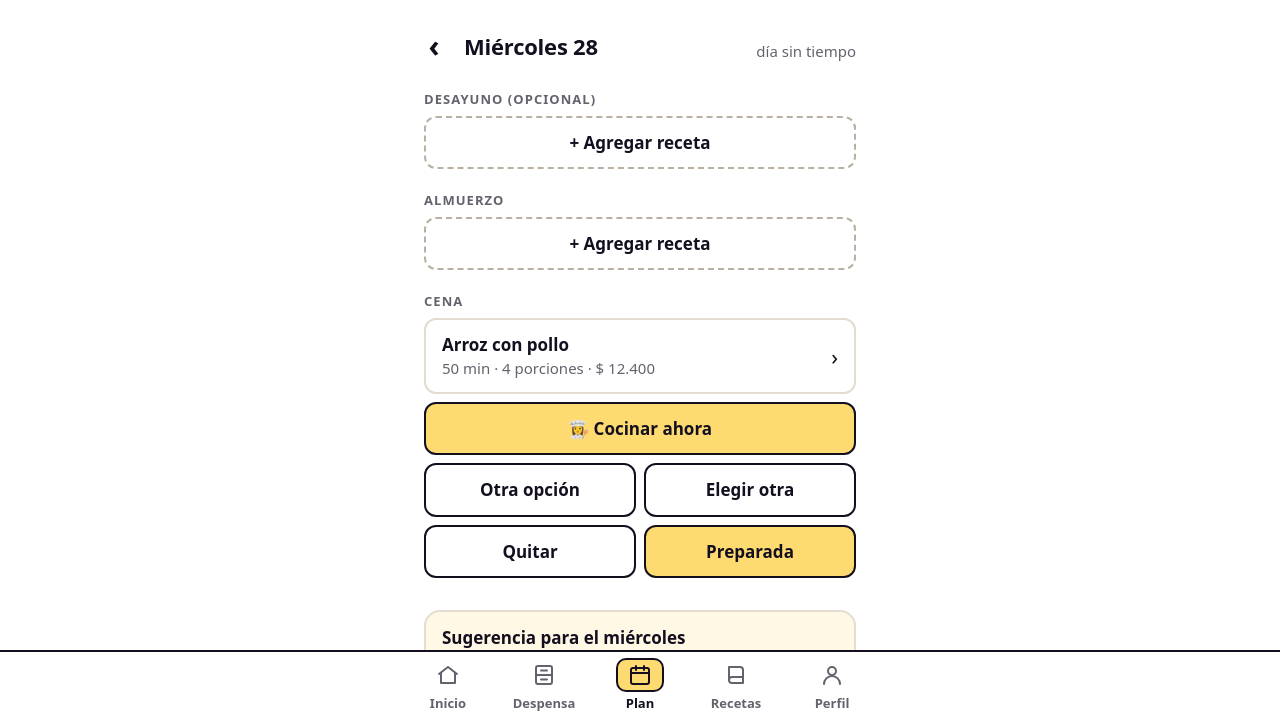
Test: Plan semanal (pantallas 27 a 33) › quitar una comida se puede deshacer
This screenshot has width=1280, height=720.
Click the button "Quitar" at (530, 552), box [424,525,636,578]
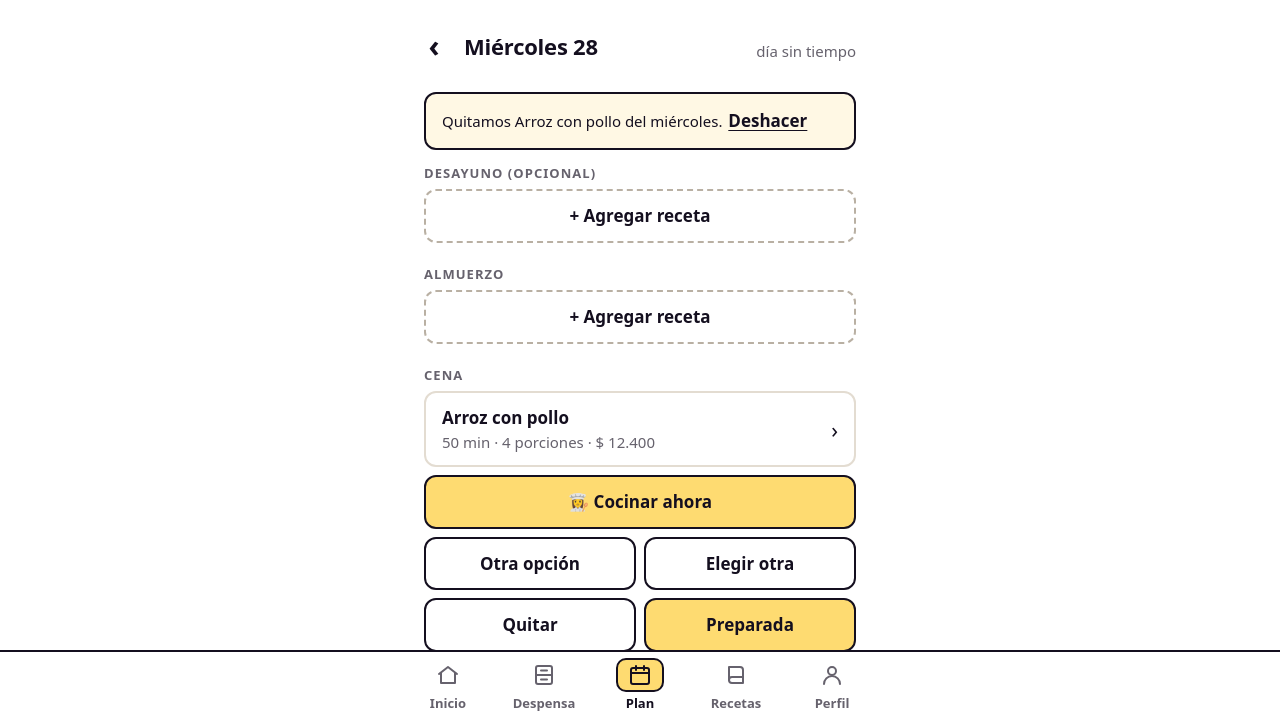
Result: the text "Quitamos Arroz con pollo del miércoles. Deshacer" is shown at [424,92,856,150]
Click the button "Deshacer" at (768, 121), box [726,106,809,136]
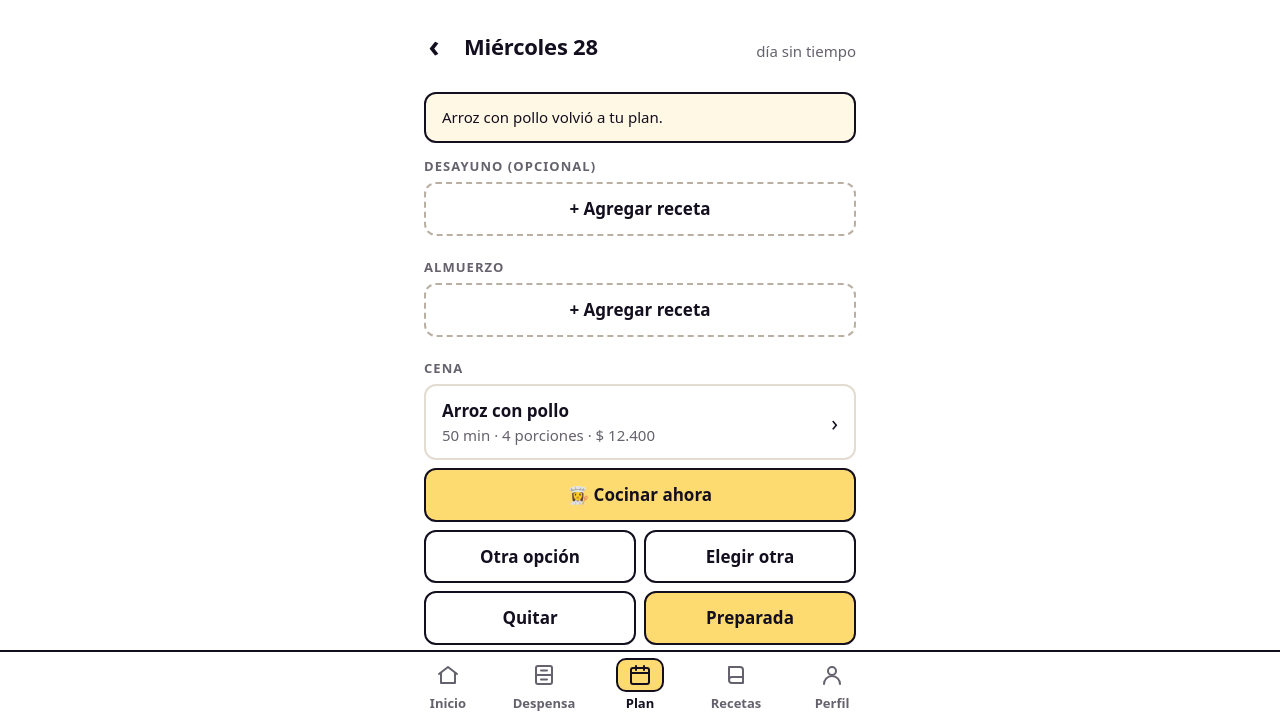
Result: the text "Arroz con pollo volvió a tu plan." is shown at [424,92,856,142]
